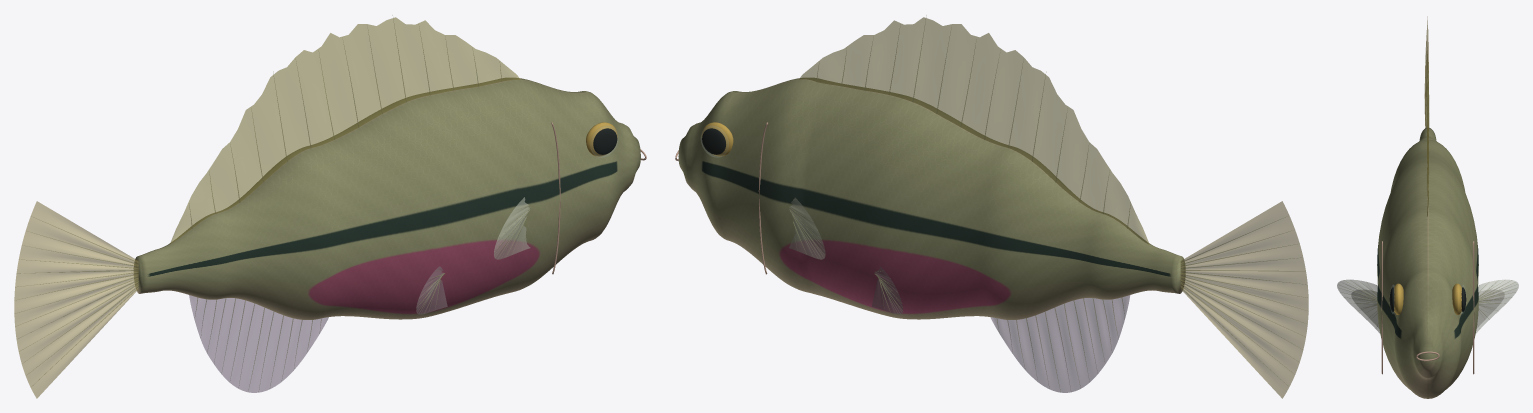
Rendered from krib-desktop.glb.
3 renders of one model, left to right at view 1: azimuth 30°, elevation 25°; view 2: azimuth 150°, elevation 25°; view 3: azimuth 270°, elevation 25°, orthographic. The views are drawn at different scales.
Parts seen in each view (by area): view 1: skin, dorsal, tail, anal, dorsal-ray, pectoral-left, pelvic-left; view 2: skin, dorsal, tail, anal, dorsal-ray, pectoral-left, pelvic-left; view 3: skin, pectoral-left, pelvic-left, dorsal-ray, operculum, eye-iris--1, dorsal, tail, eye-pupil--1.
Part boxes in pixels (x1,y1,x2,y2): skin: (134,78,640,319); dorsal: (170,17,520,243); tail: (14,201,138,398); anal: (189,295,328,392); dorsal-ray: (15,15,530,391); pectoral-left: (494,197,530,259); pelvic-left: (416,266,447,314); skin: (678,78,1185,319); dorsal: (799,17,1149,244); tail: (1180,201,1308,398); anal: (990,295,1130,392); dorsal-ray: (789,15,1307,389); pectoral-left: (789,197,825,259); pelvic-left: (872,266,902,314); skin: (1377,128,1478,398); pectoral-left: (1337,279,1518,333); pelvic-left: (1351,290,1504,327); dorsal-ray: (1338,28,1516,326); operculum: (1381,241,1474,374); eye-iris--1: (1394,283,1461,314); dorsal: (1427,58,1428,216); tail: (1424,16,1428,127); eye-pupil--1: (1389,287,1466,311).
Bounding box in the file's own units: 0.5972 × 0.3147 × 0.1718.
11 materials, 1 textured.
